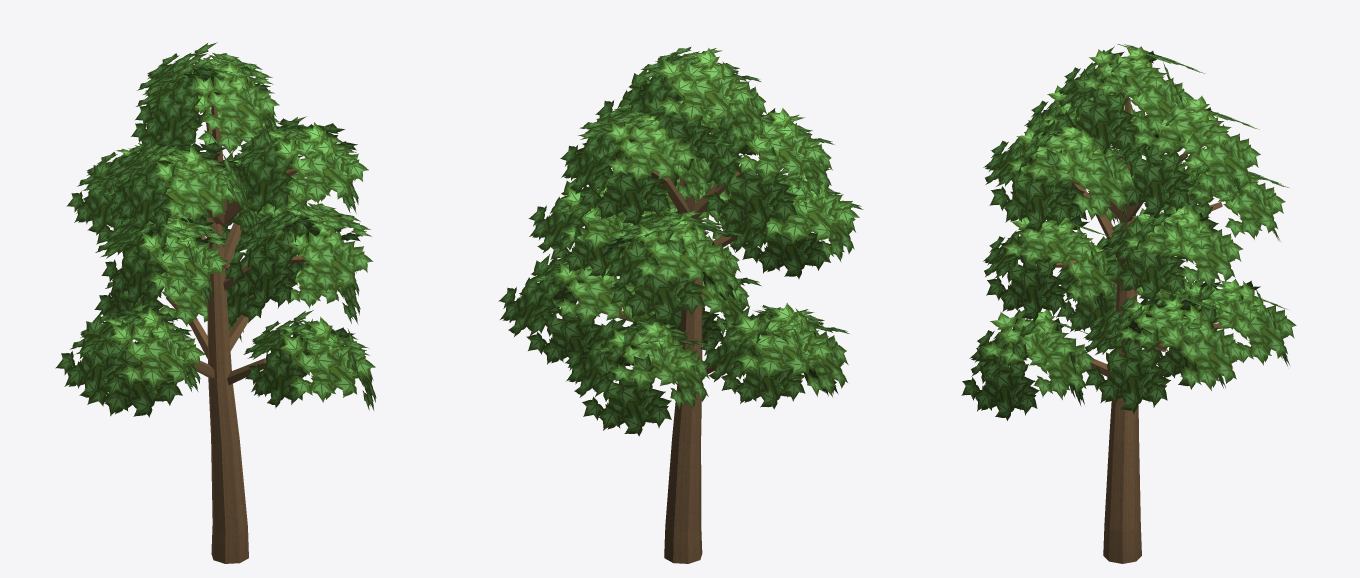
Rendered from maple_c.glb.
3 views of the same model, side by side, from view 1: azimuth 30°, elevation 25°; view 2: azimuth 150°, elevation 25°; view 3: azimuth 270°, elevation 25° (orthographic).
Parts seen in each view (by area): view 1: maple_c; view 2: maple_c; view 3: maple_c.
Boxes of the visible parts, box(x1,y1,x2,y2) form: maple_c: box(55, 42, 376, 563); maple_c: box(498, 46, 863, 563); maple_c: box(961, 44, 1296, 563).
Size of the model in its own units: 3.89 by 4.96 by 3.62.
Materials: 2 (2 with a texture image).
